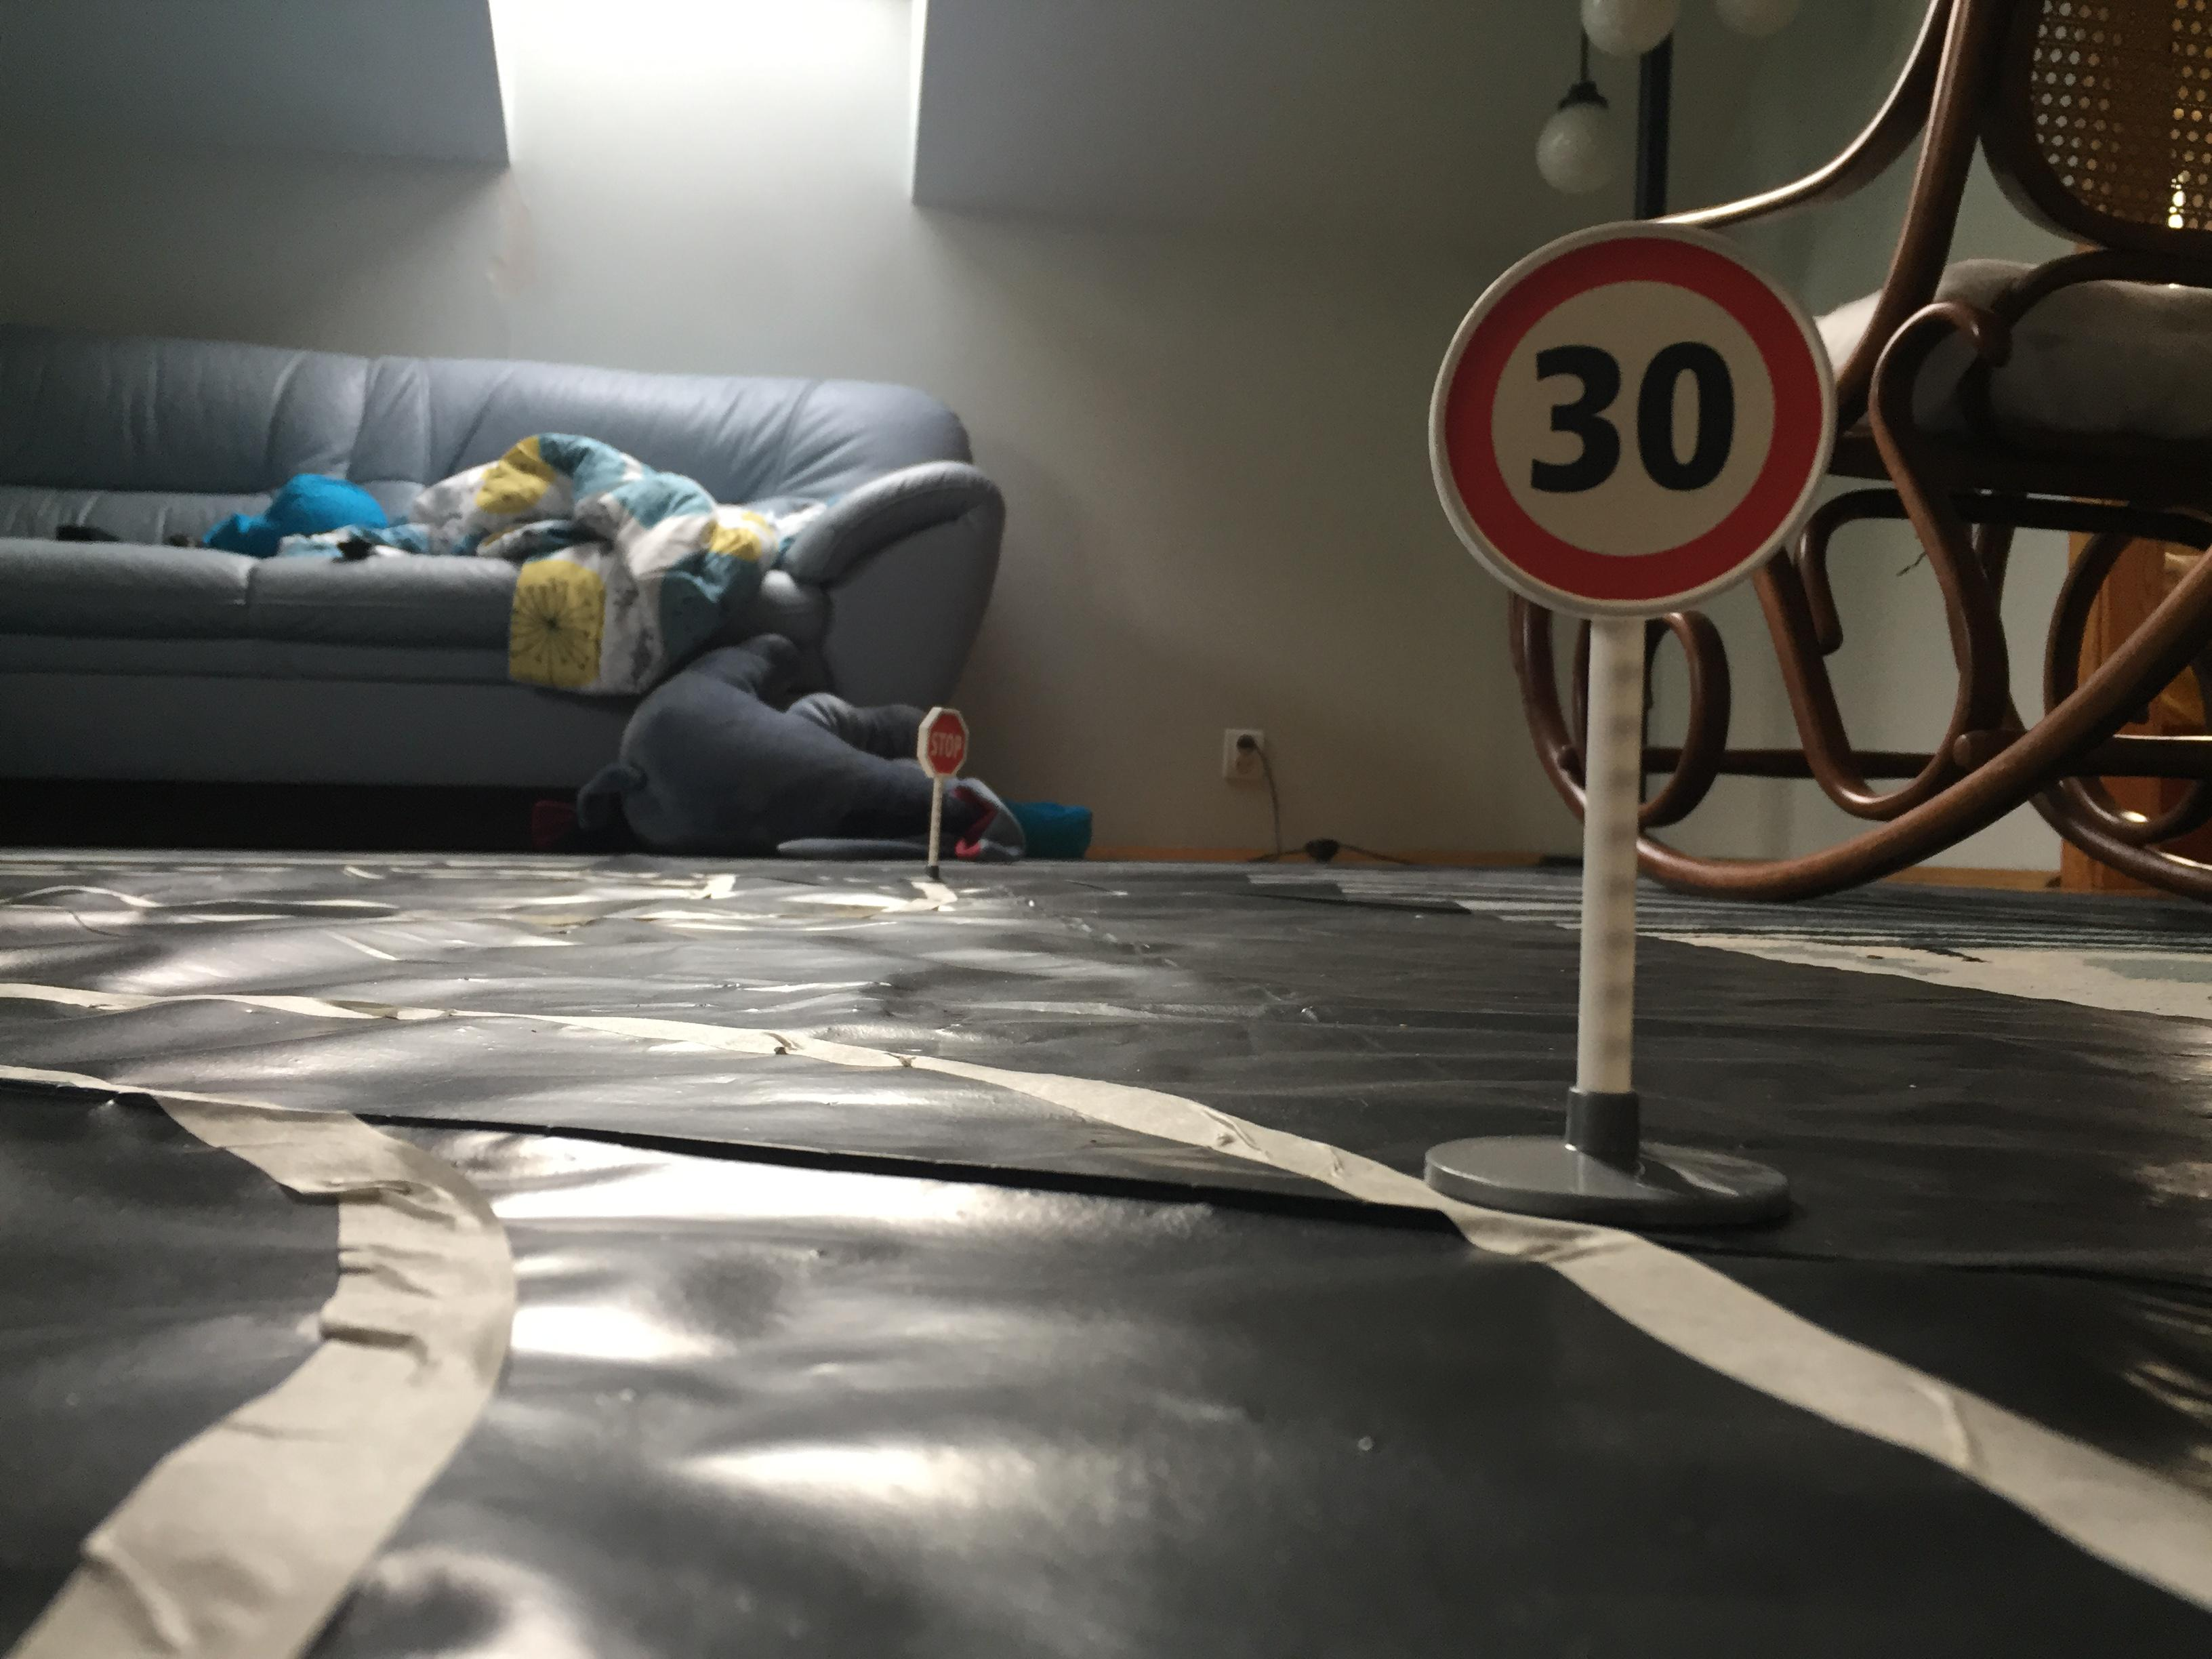speed: (1414, 209, 1848, 626)
